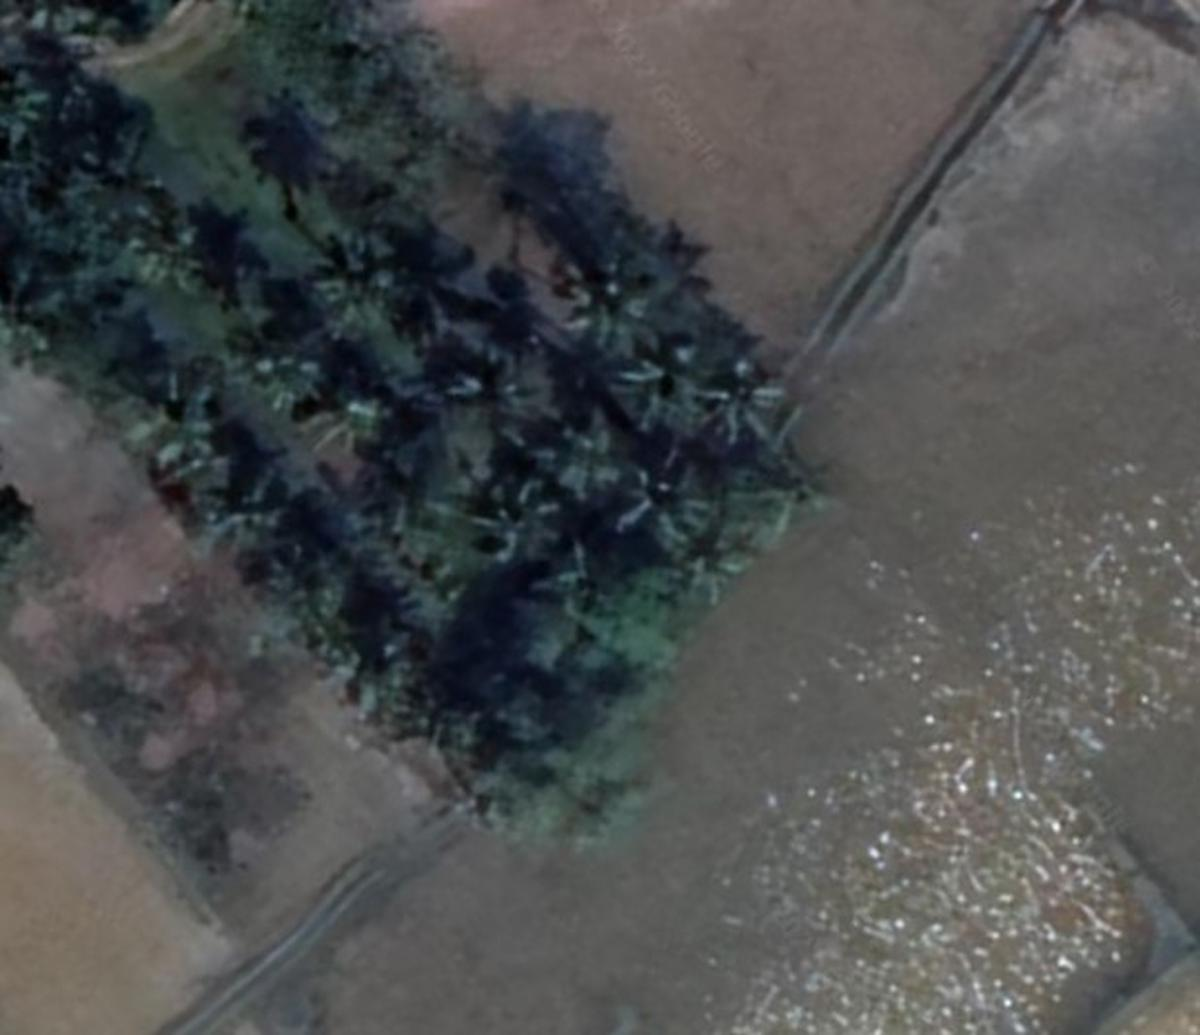coconut: (308, 229, 413, 339), (466, 469, 563, 574), (613, 462, 716, 557), (563, 250, 658, 343), (613, 332, 702, 429), (442, 333, 528, 429), (695, 353, 782, 440), (240, 335, 326, 417), (118, 217, 200, 302), (526, 418, 607, 502), (304, 374, 384, 458), (539, 532, 605, 601)
